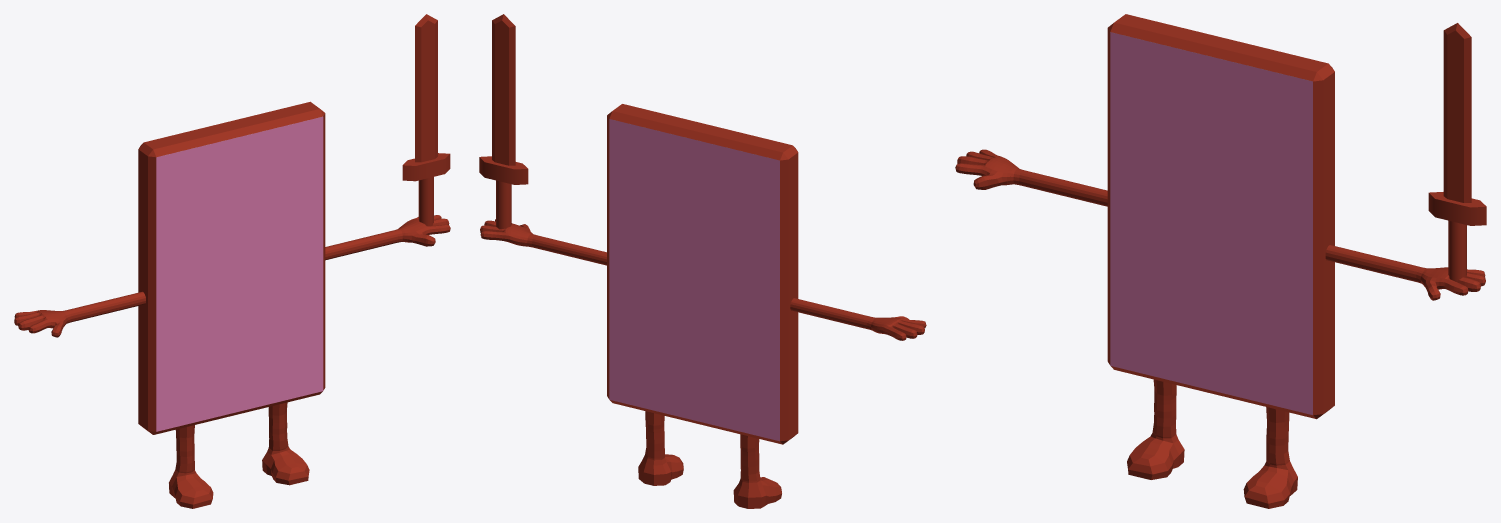
Rendered from Meleev0.2.fbx.
The picture shows the model from 3 angles, left to right: view 1: azimuth 30°, elevation 25°; view 2: azimuth 150°, elevation 25°; view 3: azimuth 330°, elevation 25°; orthographic projection. The views are drawn at different scales.
Parts seen in each view (by area): view 1: Cube, weapon_sword, Legs, Arms; view 2: Cube, weapon_sword, Arms, Legs; view 3: Cube, weapon_sword, Legs, Arms.
Boxes of the visible parts, left/top/right/bottom form: Cube: left=138, top=101, right=325, bottom=434; weapon_sword: left=402, top=14, right=450, bottom=225; Legs: left=169, top=402, right=309, bottom=508; Arms: left=14, top=215, right=450, bottom=337; Cube: left=607, top=104, right=798, bottom=444; weapon_sword: left=479, top=14, right=528, bottom=229; Arms: left=480, top=219, right=926, bottom=340; Legs: left=638, top=411, right=781, bottom=508; Cube: left=1107, top=14, right=1334, bottom=419; weapon_sword: left=1428, top=23, right=1486, bottom=281; Legs: left=1127, top=379, right=1297, bottom=508; Arms: left=955, top=149, right=1485, bottom=300.
Size of the model in its own units: 2.04 by 0.244 by 1.89.
